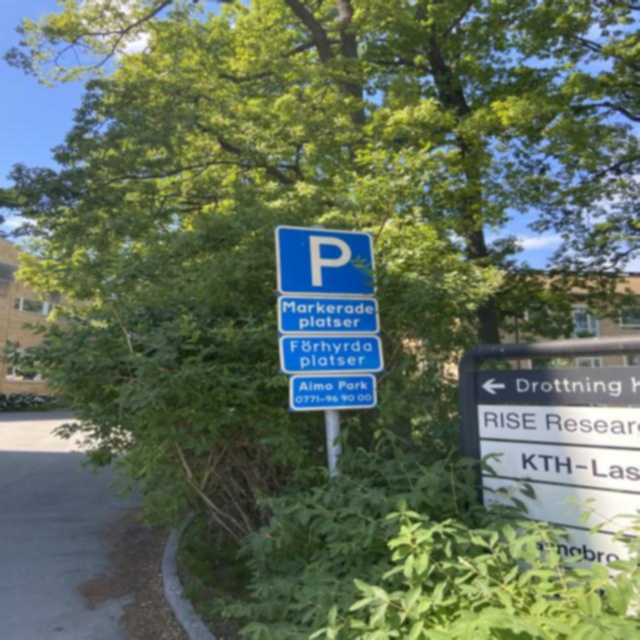P-skylt: (271, 222, 380, 298)
